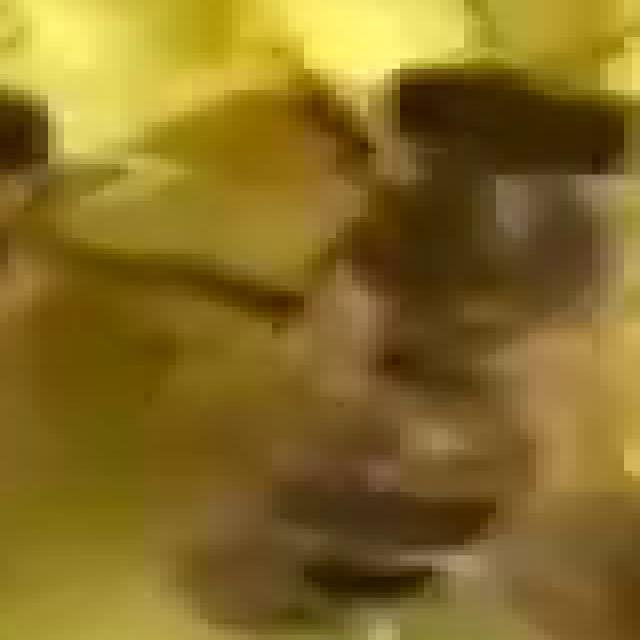honeybee: (128, 31, 640, 640)
